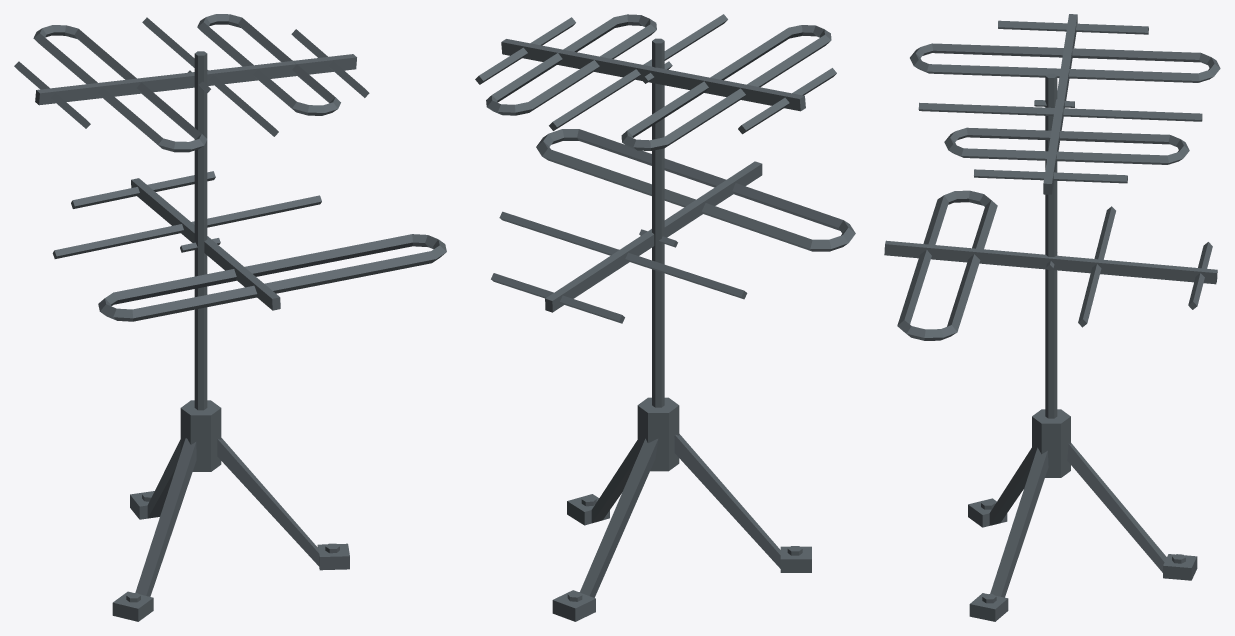
The model's file is SM_Prop_TV_Antenna_02.fbx.
3 renders of one model, left to right at view 1: azimuth 30°, elevation 25°; view 2: azimuth 150°, elevation 25°; view 3: azimuth 270°, elevation 25°, orthographic. The views are drawn at different scales.
Parts seen in each view (by area): view 1: SM_Prop_TV_Antenna_02; view 2: SM_Prop_TV_Antenna_02; view 3: SM_Prop_TV_Antenna_02.
Part boxes in pixels (left/top/right/bottom): SM_Prop_TV_Antenna_02: left=14, top=14, right=446, bottom=621; SM_Prop_TV_Antenna_02: left=475, top=14, right=855, bottom=621; SM_Prop_TV_Antenna_02: left=884, top=14, right=1220, bottom=621.
Bounding box in the file's own units: 152 × 225 × 140.
